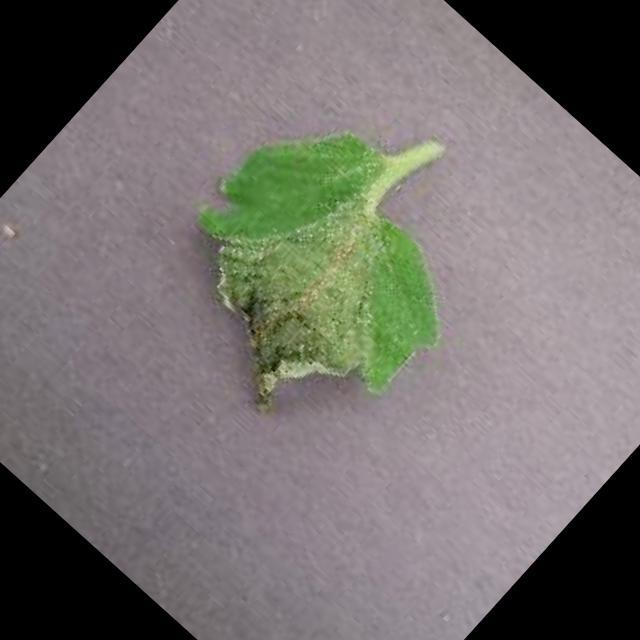Tomato late blight leaf: (119, 82, 508, 472)
